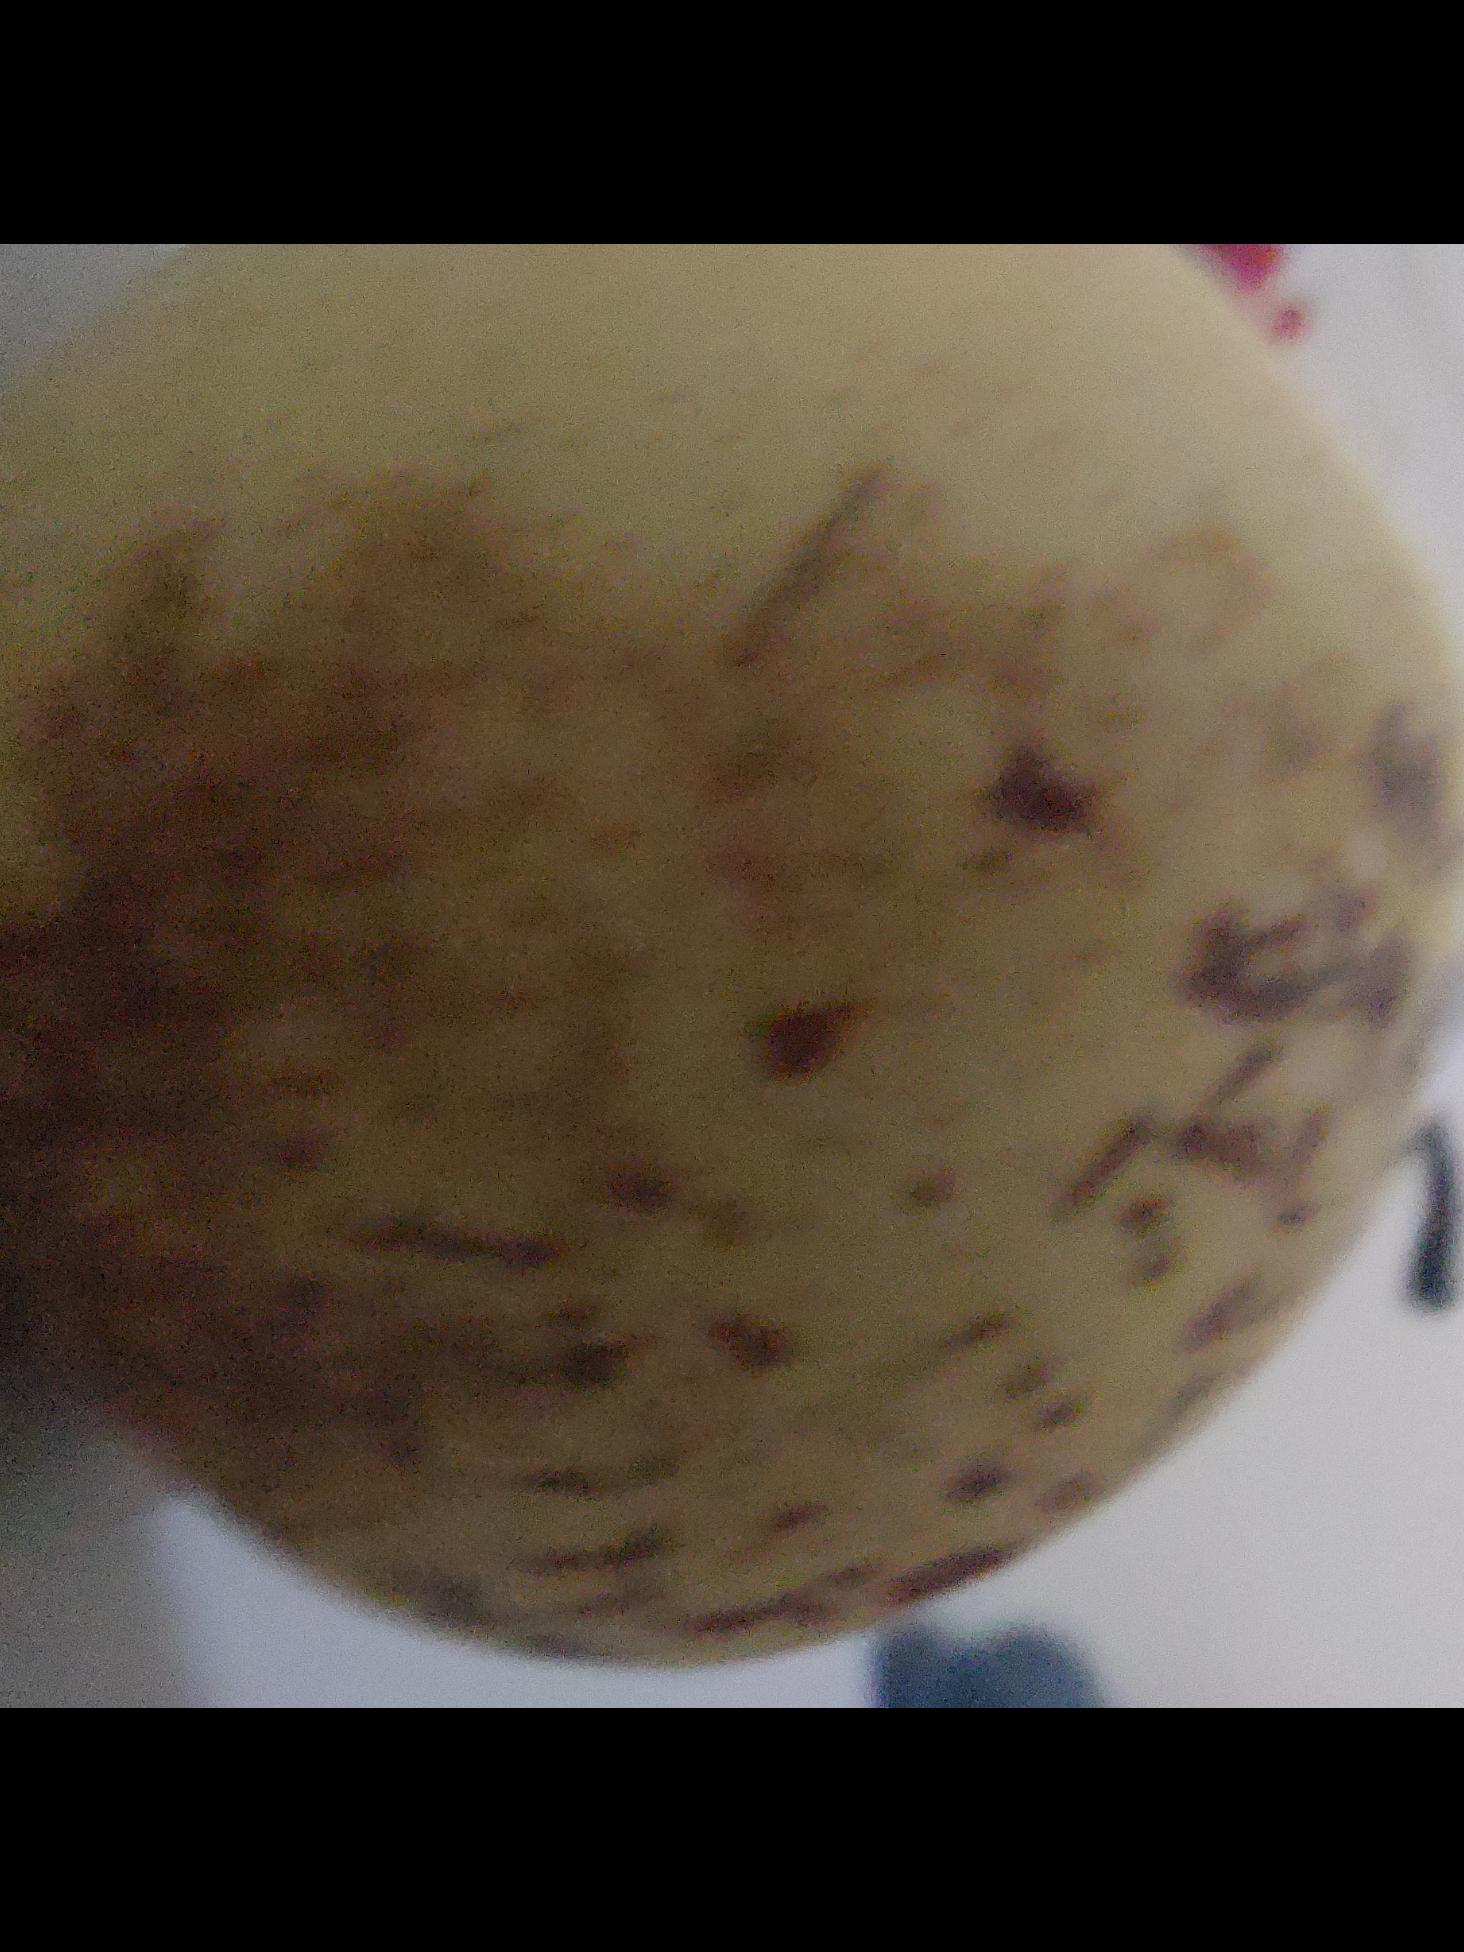Bad Pear: (0, 244, 1464, 1671)
